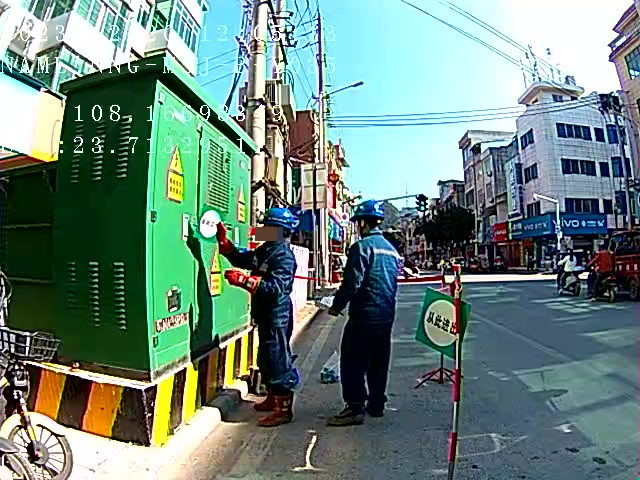downcloth: (338, 324, 393, 410)
downsuit: (249, 316, 294, 401)
halt: (352, 199, 385, 234), (262, 207, 294, 241)
inear: (356, 216, 370, 236), (270, 224, 285, 241)
intosign: (414, 287, 473, 360)
longglove: (224, 268, 261, 289), (214, 222, 233, 255)
person: (331, 200, 405, 423), (223, 206, 302, 395)
shoe: (257, 396, 294, 426)
upsuit: (329, 235, 400, 318), (242, 245, 291, 329)
worksign: (199, 203, 222, 240)
